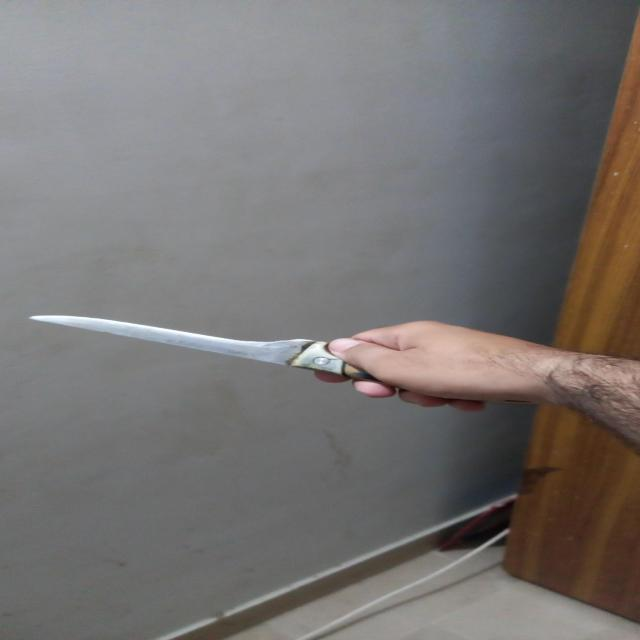Knife: (26, 314, 377, 376)
Person: (313, 321, 640, 454)
